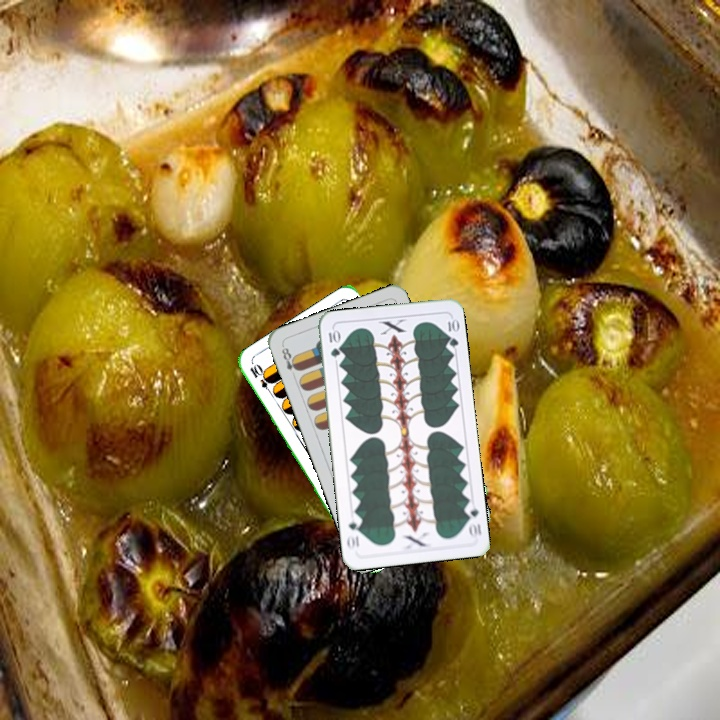E10: (246, 361, 276, 397)
E8: (277, 342, 302, 381)
G10: (461, 499, 484, 541), (324, 325, 342, 360)
